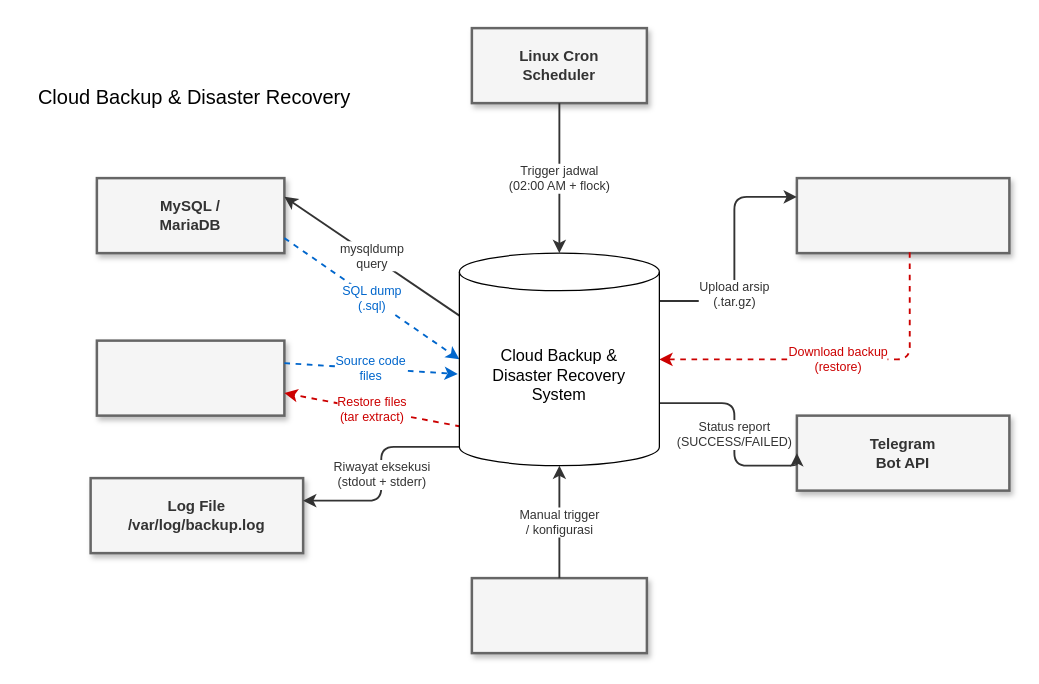
The diagram is 1039 pixels wide and 684 high, and some of its shapes have lost their labels. The shapes that lost their labels are listed below. From the top down, each one's centre as x and y in pixels, then its label:
At (x=904, y=216): "Cloud Storage (GDrive / S3 / R2)".
At (x=191, y=379): "Web Server /var/www/html".
At (x=560, y=616): "System Administrator".
